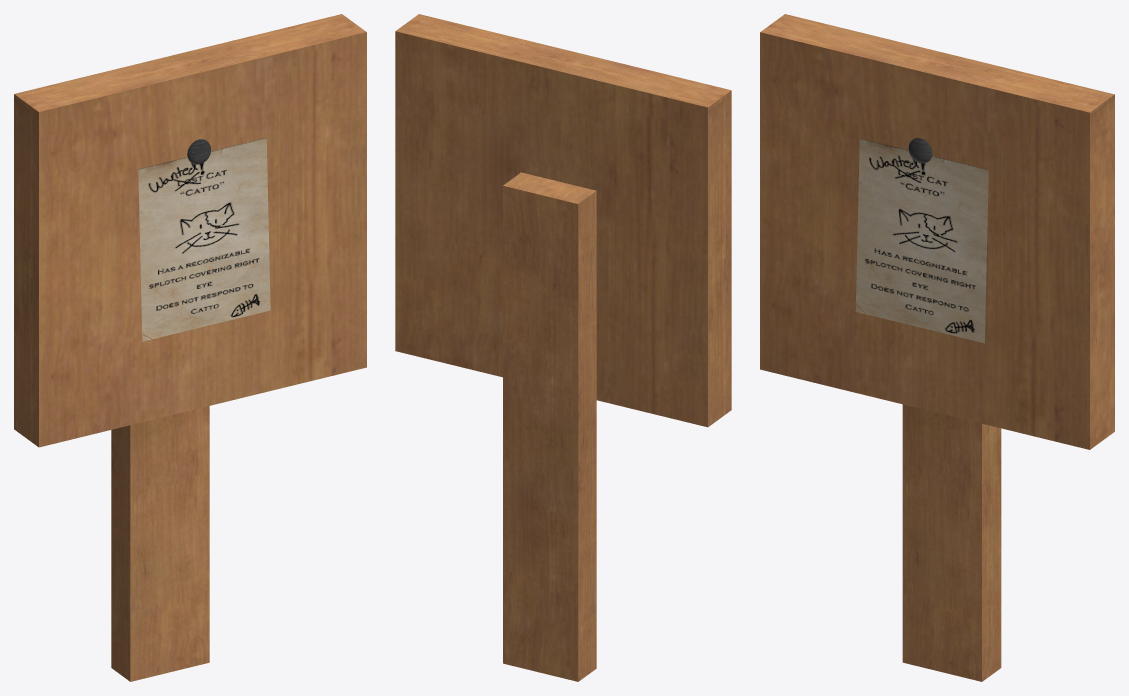
Rendered from Sign_final_attempt.fbx.
The picture shows the model from 3 angles, left to right: view 1: azimuth 30°, elevation 25°; view 2: azimuth 150°, elevation 25°; view 3: azimuth 330°, elevation 25°; orthographic projection. The views are drawn at different scales.
Visible parts, largest first — view 1: pCube1, pCube2, pPlane1; view 2: pCube1, pCube2; view 3: pCube1, pCube2, pPlane1.
Part boxes in pixels (x1=…): pCube1: x1=14, y1=14, x2=366, y2=447; pCube2: x1=111, y1=406, x2=209, y2=681; pPlane1: x1=138, y1=138, x2=270, y2=341; pCube1: x1=395, y1=14, x2=731, y2=427; pCube2: x1=503, y1=172, x2=596, y2=681; pCube1: x1=760, y1=14, x2=1114, y2=449; pCube2: x1=902, y1=404, x2=1001, y2=681; pPlane1: x1=855, y1=138, x2=988, y2=343.
Size of the model in its own units: 8.67 by 15.57 by 2.21.
